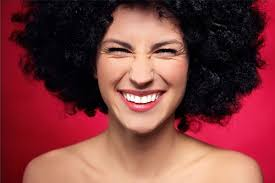n.sharp: (131, 53, 153, 86)
